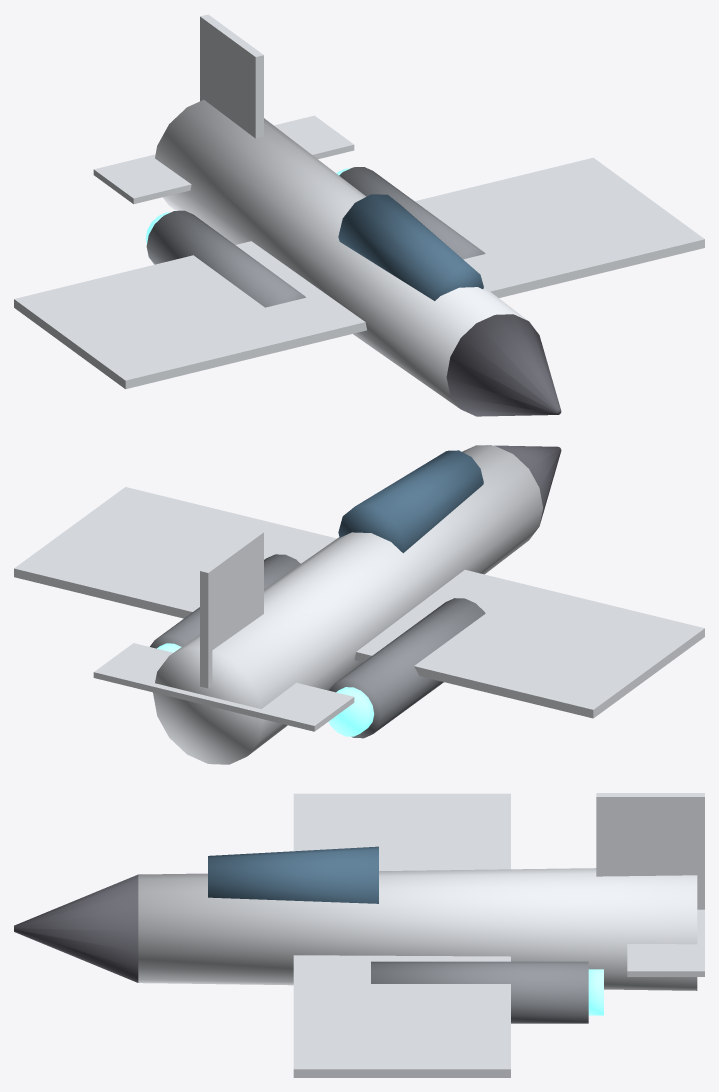
The picture shows the model from 3 angles, top to bottom: view 1: azimuth 30°, elevation 25°; view 2: azimuth 150°, elevation 25°; view 3: azimuth 270°, elevation 25°; orthographic projection. The views are drawn at different scales.
Visible parts, largest first — view 1: Generated3DMesh; view 2: Generated3DMesh; view 3: Generated3DMesh.
Boxes of the visible parts, x1,y1,x2,y2 form: Generated3DMesh: (14,14,704,416); Generated3DMesh: (14,445,704,764); Generated3DMesh: (14,793,704,1077).
Size of the model in its own units: 4.2 by 1.35 by 4.45.
